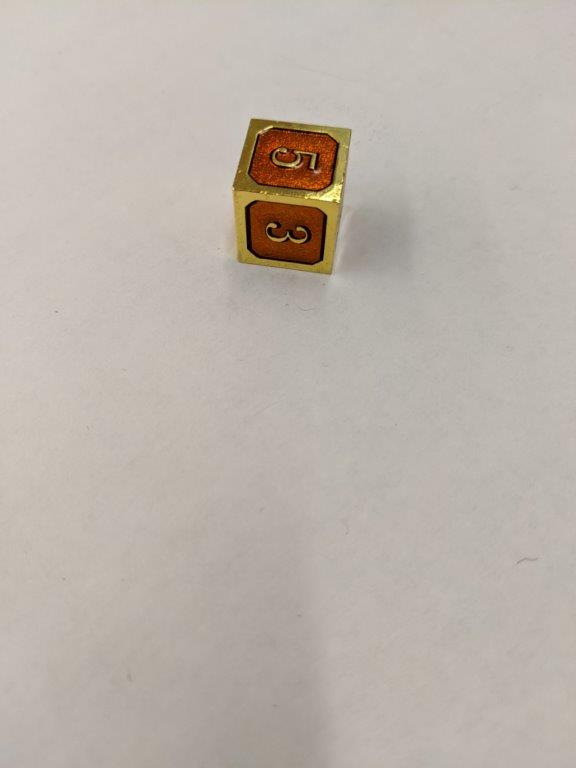d6-5: (231, 118, 352, 276)
